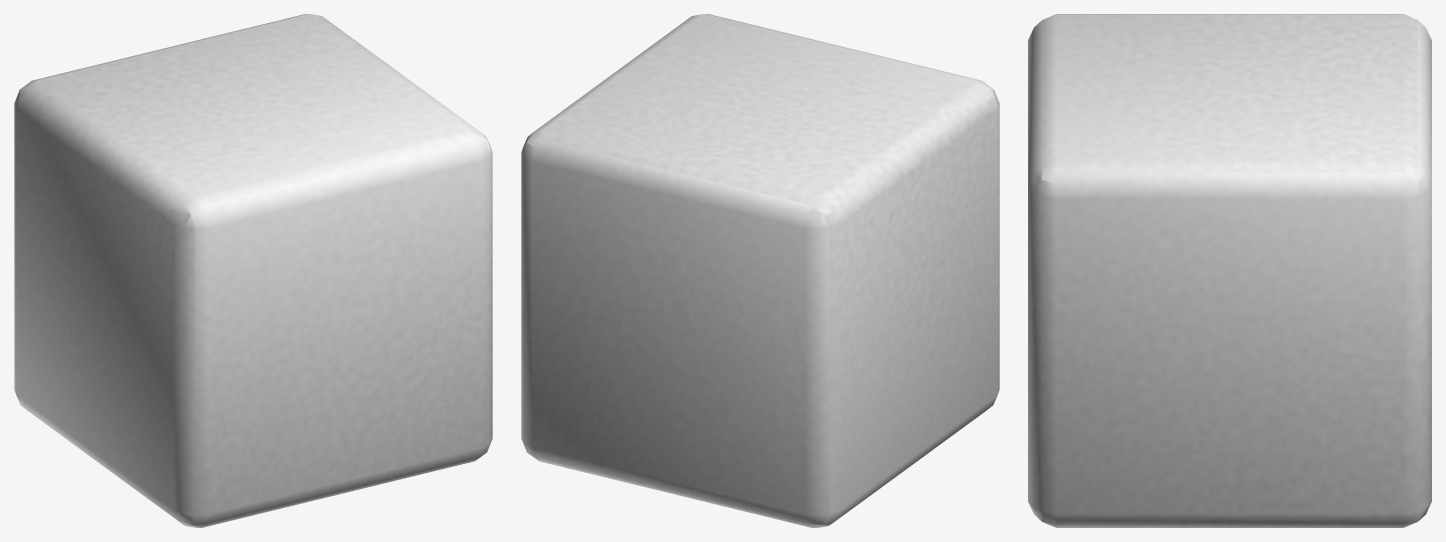
File: blockmovable.fbx
The picture shows the model from 3 angles, left to right: view 1: azimuth 30°, elevation 25°; view 2: azimuth 150°, elevation 25°; view 3: azimuth 270°, elevation 25°; orthographic projection. The views are drawn at different scales.
Visible parts, largest first — view 1: Cube; view 2: Cube; view 3: Cube.
Boxes of the visible parts, x1,y1,x2,y2 form: Cube: (14,14,492,527); Cube: (521,14,999,527); Cube: (1028,14,1431,527).
Size of the model in its own units: 2 by 2 by 2.
1 material, 1 textured.
